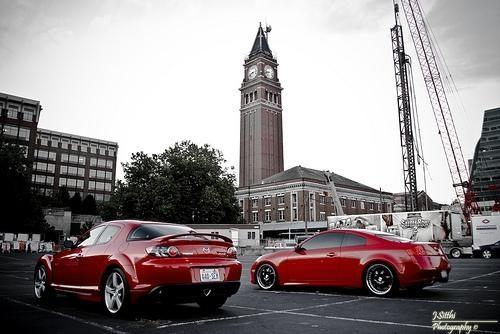car: (32, 220, 243, 319), (248, 228, 450, 294), (473, 239, 500, 259)
truck: (326, 210, 462, 244), (469, 215, 500, 259)
